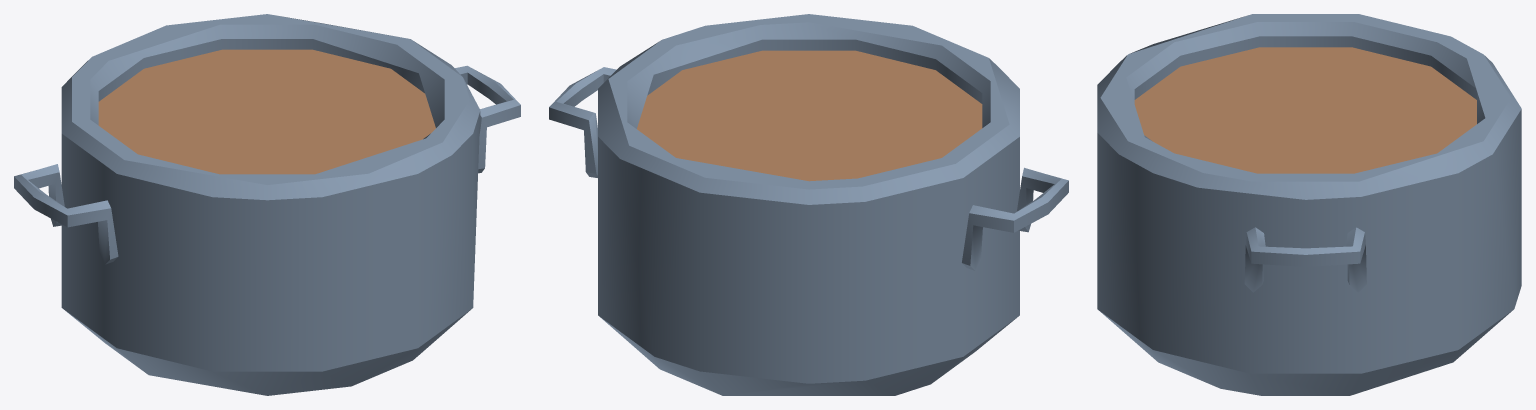
The model's file is cc0-pot-filled-lod1.glb.
3 renders of one model, left to right at view 1: azimuth 30°, elevation 25°; view 2: azimuth 150°, elevation 25°; view 3: azimuth 270°, elevation 25°, orthographic. The views are drawn at different scales.
Visible parts, largest first — view 1: part_0; view 2: part_0; view 3: part_0.
Boxes of the visible parts, x1,y1,x2,y2 form: part_0: (14,14,520,395); part_0: (549,14,1068,395); part_0: (1097,14,1521,395).
Size of the model in its own units: 1.58 by 0.731 by 1.23.
Materials: 1 (1 with a texture image).
